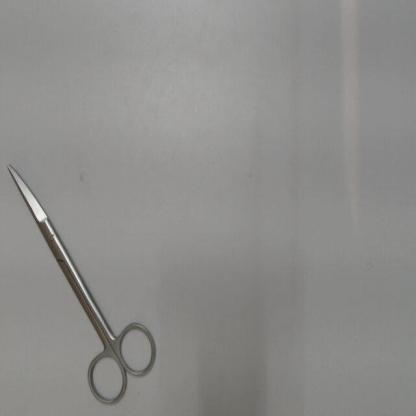Curved Mayo Scissors: (3, 158, 165, 413)
